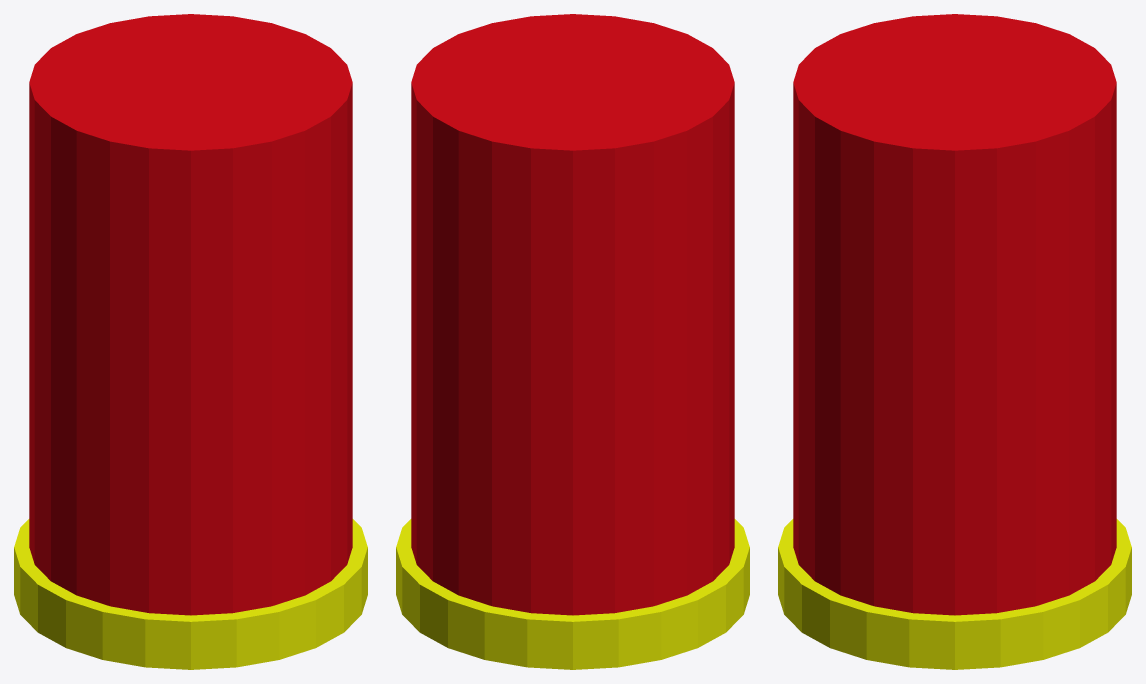
The model's file is Shuriken Shell_3DModel_3.fbx.
3 renders of one model, left to right at view 1: azimuth 30°, elevation 25°; view 2: azimuth 150°, elevation 25°; view 3: azimuth 270°, elevation 25°, orthographic.
Parts seen in each view (by area): view 1: Shell; view 2: Shell; view 3: Shell.
Part boxes in pixels (bbox=[...]): Shell: bbox=[14, 14, 367, 669]; Shell: bbox=[396, 14, 749, 669]; Shell: bbox=[778, 14, 1131, 669].
Size of the model in its own units: 0.1 by 0.16 by 0.1.
